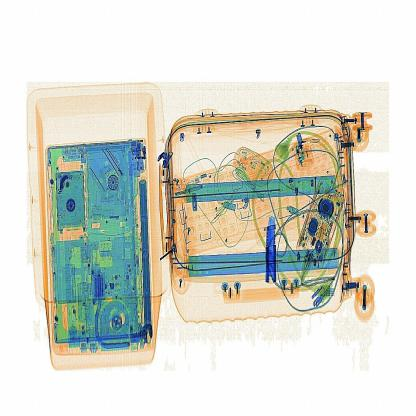pliers: (260, 210, 284, 284)
